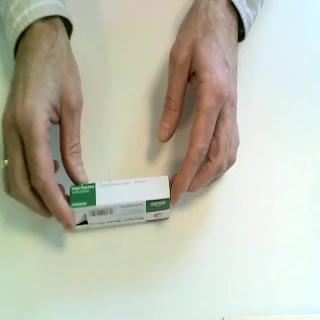nobligan_retard200mg: (68, 174, 172, 231)
